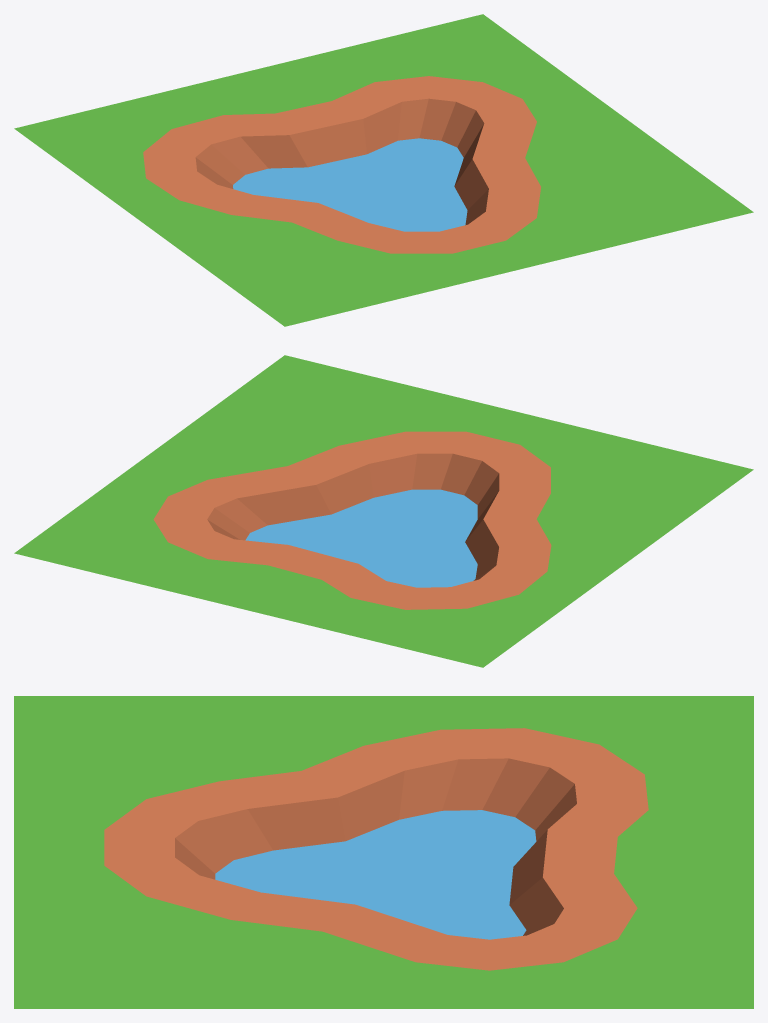
File: ground_riverTile.glb
3 views of the same model, one above another, from view 1: azimuth 30°, elevation 25°; view 2: azimuth 150°, elevation 25°; view 3: azimuth 270°, elevation 25° (orthographic). The views are drawn at different scales.
Visible parts, largest first — view 1: ground_riverTile; view 2: ground_riverTile; view 3: ground_riverTile.
Part boxes in pixels (left/top/right/bottom): ground_riverTile: left=14, top=14, right=753, bottom=326; ground_riverTile: left=14, top=355, right=753, bottom=667; ground_riverTile: left=14, top=696, right=753, bottom=1008.
Bounding box in the file's own units: 1 × 0.05 × 1.
